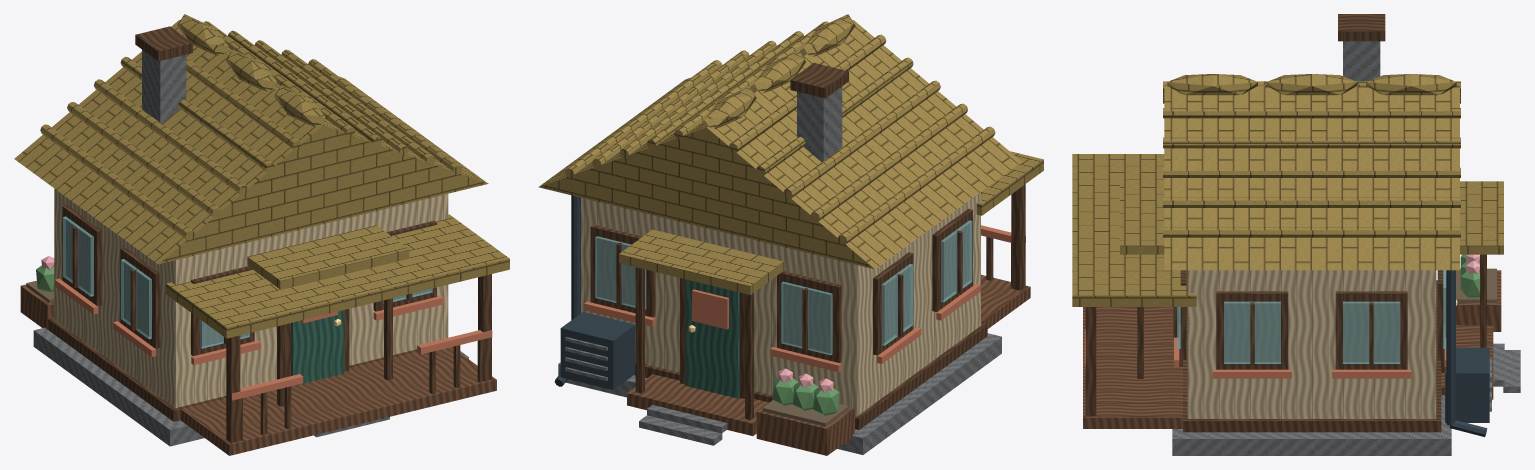
The model's file is house_cottage_lv1_porch.glb.
3 views of the same model, side by side, from view 1: azimuth 30°, elevation 25°; view 2: azimuth 150°, elevation 25°; view 3: azimuth 270°, elevation 25° (orthographic). The views are drawn at different scales.
Visible parts, largest first — view 1: gable_roof, walls, porch_roof, porch_floor, front_porch_canopy, foundation, front_door, left_window_frame.001, left_window_frame, chimney, floor_trim, thatch_course.002 (+30 smaller); view 2: gable_roof, walls, back_porch_canopy, foundation, back_door, back_window_frame, back_ac_unit, back_deck, back_window_frame.001, back_garden_bed, back_window_glass, left_window_frame (+38 smaller); view 3: gable_roof, walls, porch_roof, porch_floor, foundation, right_window_frame, right_window_frame.001, floor_trim, thatch_course.006, right_window_glass.001, right_window_glass, front_porch_canopy (+25 smaller).
Boxes of the visible parts, left/top/right/bottom form: gable_roof: left=14, top=20, right=488, bottom=264; walls: left=54, top=188, right=448, bottom=407; porch_roof: left=166, top=214, right=509, bottom=338; porch_floor: left=180, top=347, right=496, bottom=455; front_porch_canopy: left=247, top=225, right=409, bottom=289; foundation: left=33, top=327, right=468, bottom=446; front_door: left=291, top=310, right=344, bottom=385; left_window_frame.001: left=62, top=205, right=102, bottom=306; left_window_frame: left=120, top=247, right=160, bottom=348; chimney: left=142, top=49, right=186, bottom=123; floor_trim: left=48, top=317, right=453, bottom=421; thatch_course.002: left=93, top=79, right=248, bottom=195; gable_roof: left=538, top=20, right=1021, bottom=269; walls: left=581, top=192, right=980, bottom=415; back_porch_canopy: left=619, top=229, right=784, bottom=294; foundation: left=558, top=333, right=1001, bottom=454; back_door: left=685, top=279, right=739, bottom=398; back_window_frame: left=777, top=271, right=841, bottom=362; back_ac_unit: left=560, top=312, right=635, bottom=389; back_deck: left=627, top=374, right=768, bottom=435; back_window_frame.001: left=590, top=225, right=655, bottom=317; back_garden_bed: left=756, top=400, right=854, bottom=455; back_window_glass: left=781, top=281, right=832, bottom=355; left_window_frame: left=932, top=208, right=972, bottom=311; gable_roof: left=1164, top=86, right=1459, bottom=270; walls: left=1187, top=270, right=1436, bottom=418; porch_roof: left=1072, top=154, right=1196, bottom=306; porch_floor: left=1083, top=307, right=1187, bottom=428; foundation: left=1172, top=395, right=1451, bottom=455; right_window_frame: left=1216, top=291, right=1288, bottom=369; right_window_frame.001: left=1335, top=291, right=1407, bottom=369; floor_trim: left=1183, top=280, right=1441, bottom=432; thatch_course.006: left=1163, top=137, right=1460, bottom=148; right_window_glass.001: left=1343, top=301, right=1400, bottom=363; right_window_glass: left=1224, top=301, right=1280, bottom=363; front_porch_canopy: left=1120, top=181, right=1164, bottom=254.
Size of the model in its own units: 3.15 by 2.9 by 3.61.
Materials: 13 (7 with a texture image).
